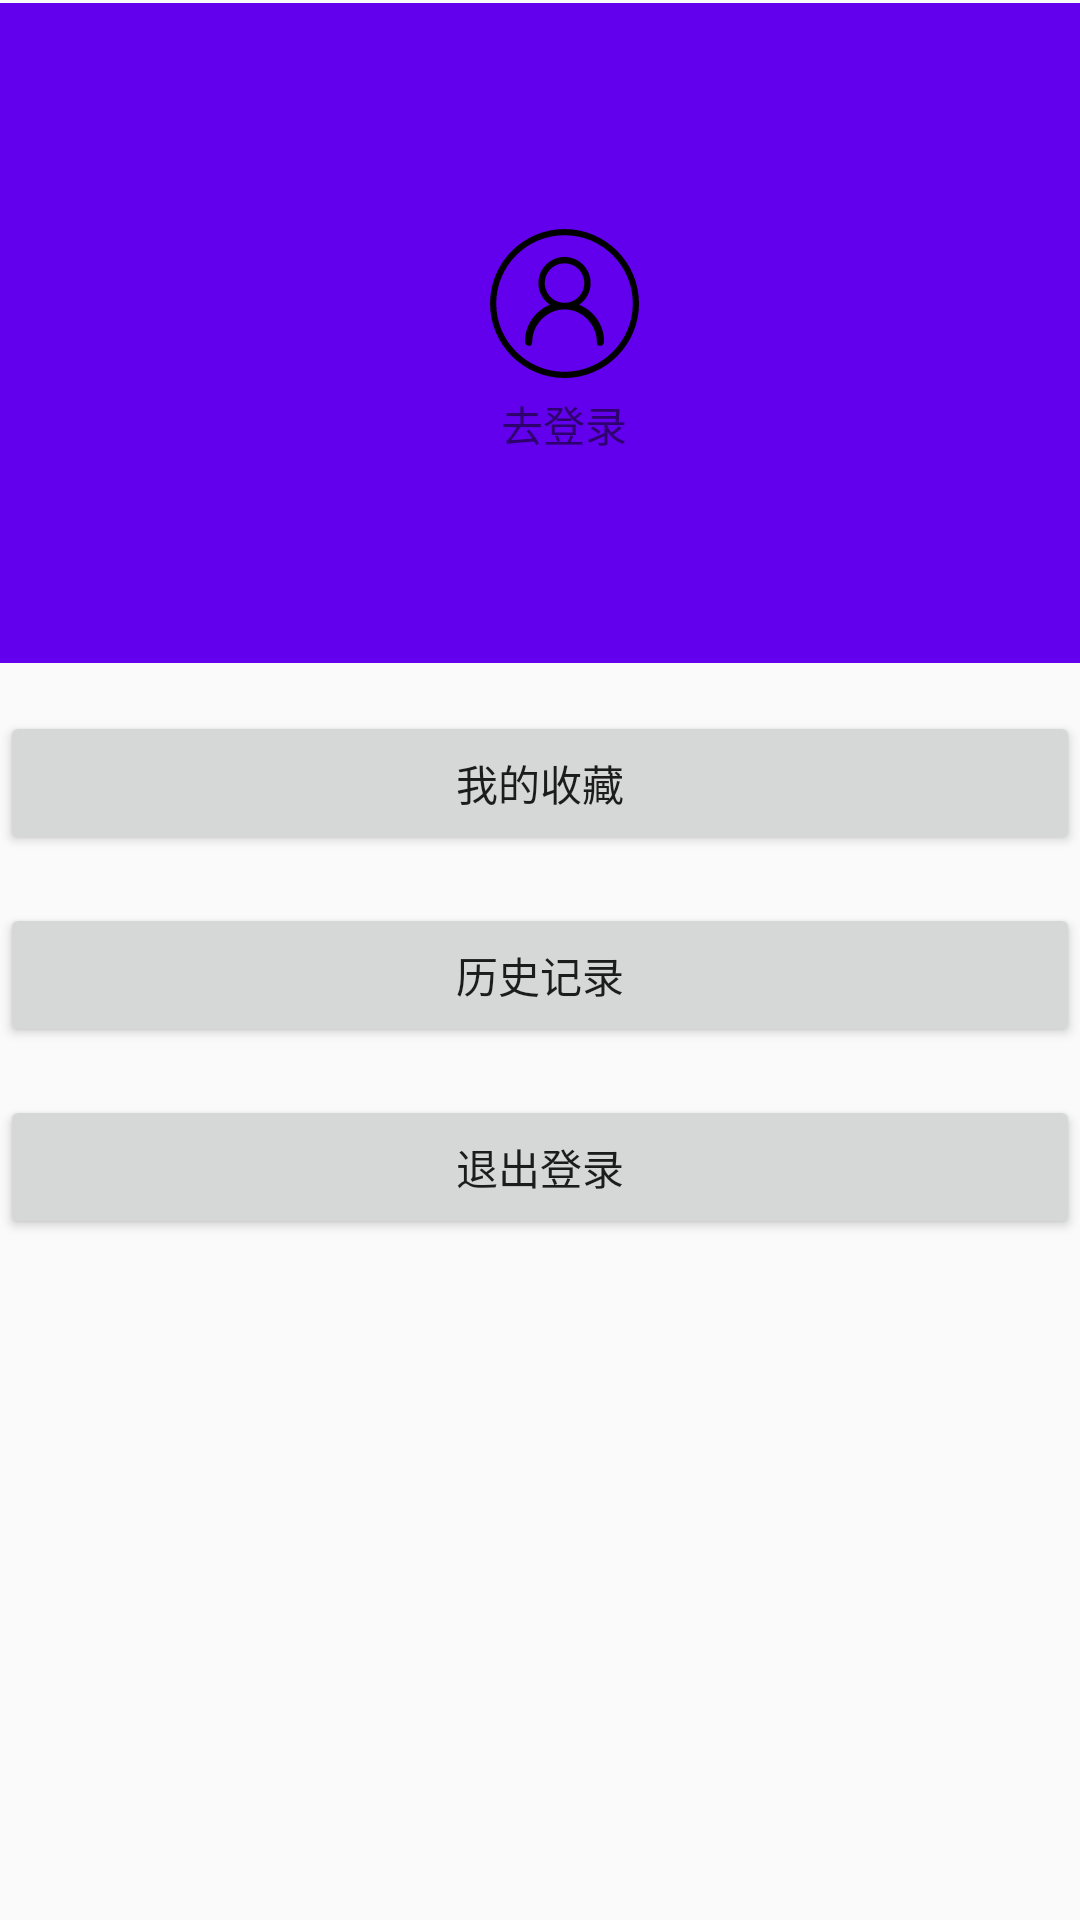

Icons on this 1080w x 1920h Android screen, each with the point to tap as (x,y):
user: (564,303)
